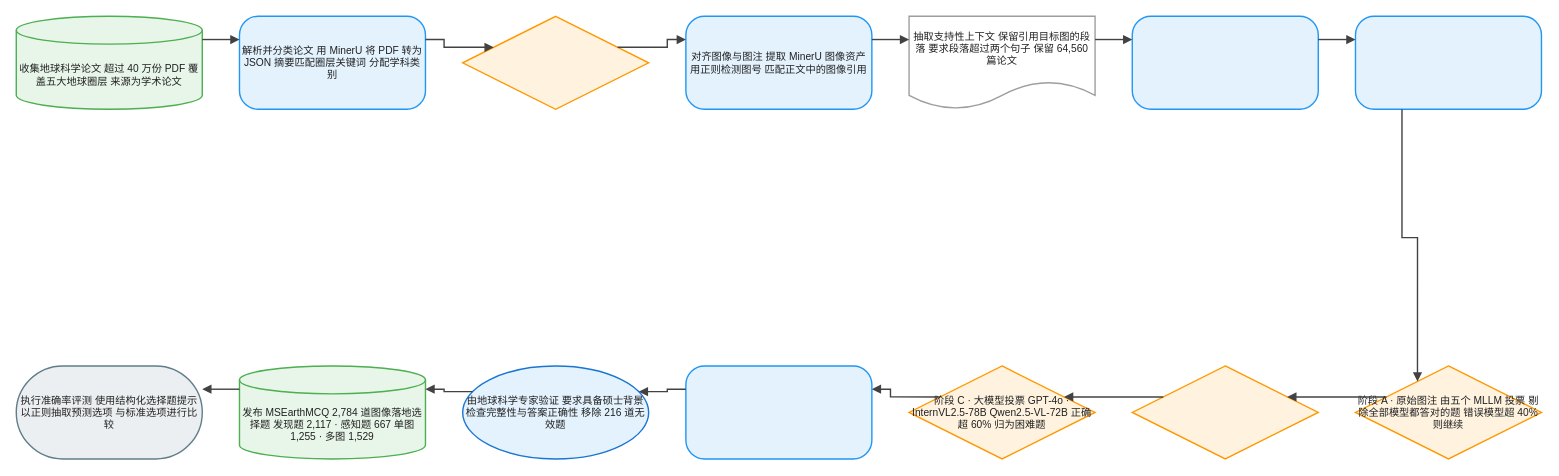
This 1559x476 diagram has some shape labels left out. Each missing label, with the centre of its shape:
"抽取 MCQ 基准样本 阶段 A 抽取 900 题 阶段 B 1,800 · C 300 形成 3,000 道候选题" belongs at (x=778, y=412).
"生成候选选择题 输入图像与两种图注 使用 GPT-4o 以论文证据约束问答" belongs at (x=1448, y=62).
"生成精炼图注 输入图像与原始图注 加入论文上下文推理 使用 GPT-4o" belongs at (x=1225, y=62).
"筛选科学图像 使用 Qwen2.5-VL-72B 要求与地球科学相关 保留约 8.3 万篇论文" belongs at (x=555, y=62).
"阶段 B · 精炼图注 再由同一组五模型投票 正确模型超过 60% 归为专业科学问答" belongs at (x=1225, y=412).
